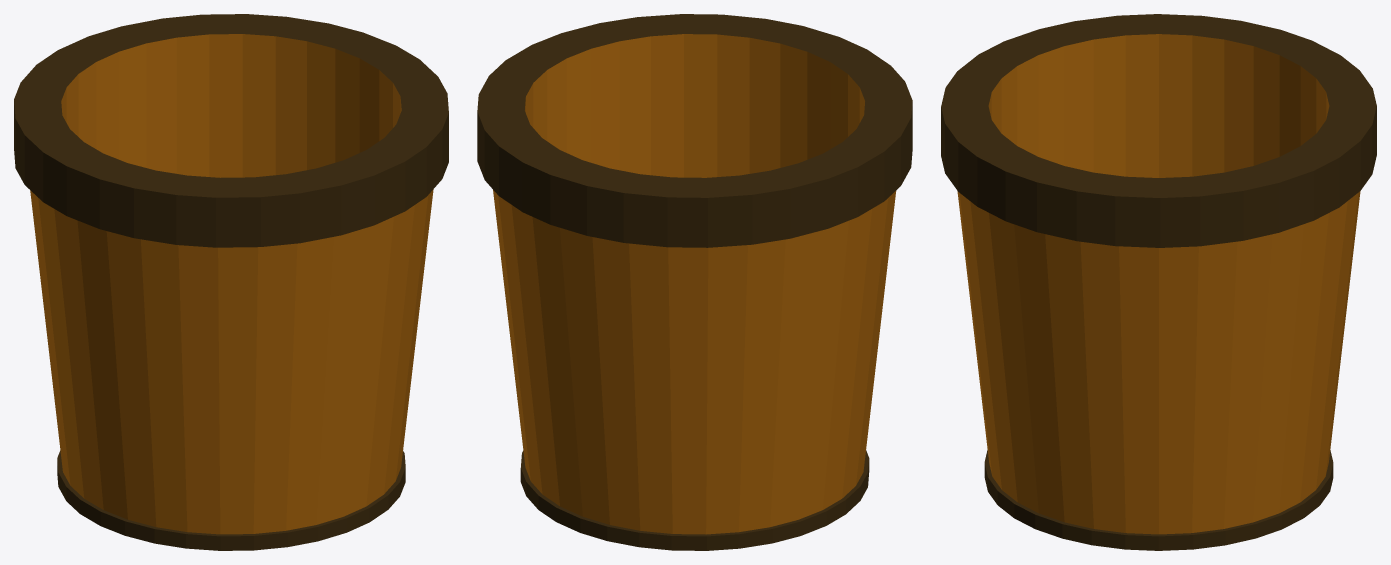
Rendered from 木のバケツ.fbx.
3 renders of one model, left to right at view 1: azimuth 30°, elevation 25°; view 2: azimuth 150°, elevation 25°; view 3: azimuth 270°, elevation 25°, orthographic.
Visible parts, largest first — view 1: Cylinder; view 2: Cylinder; view 3: Cylinder.
Part boxes in pixels (box(x1,y1,x2,y2)): Cylinder: box(14, 14, 448, 550); Cylinder: box(477, 14, 912, 550); Cylinder: box(941, 14, 1376, 550).
Size of the model in its own units: 212 by 199 by 212.
